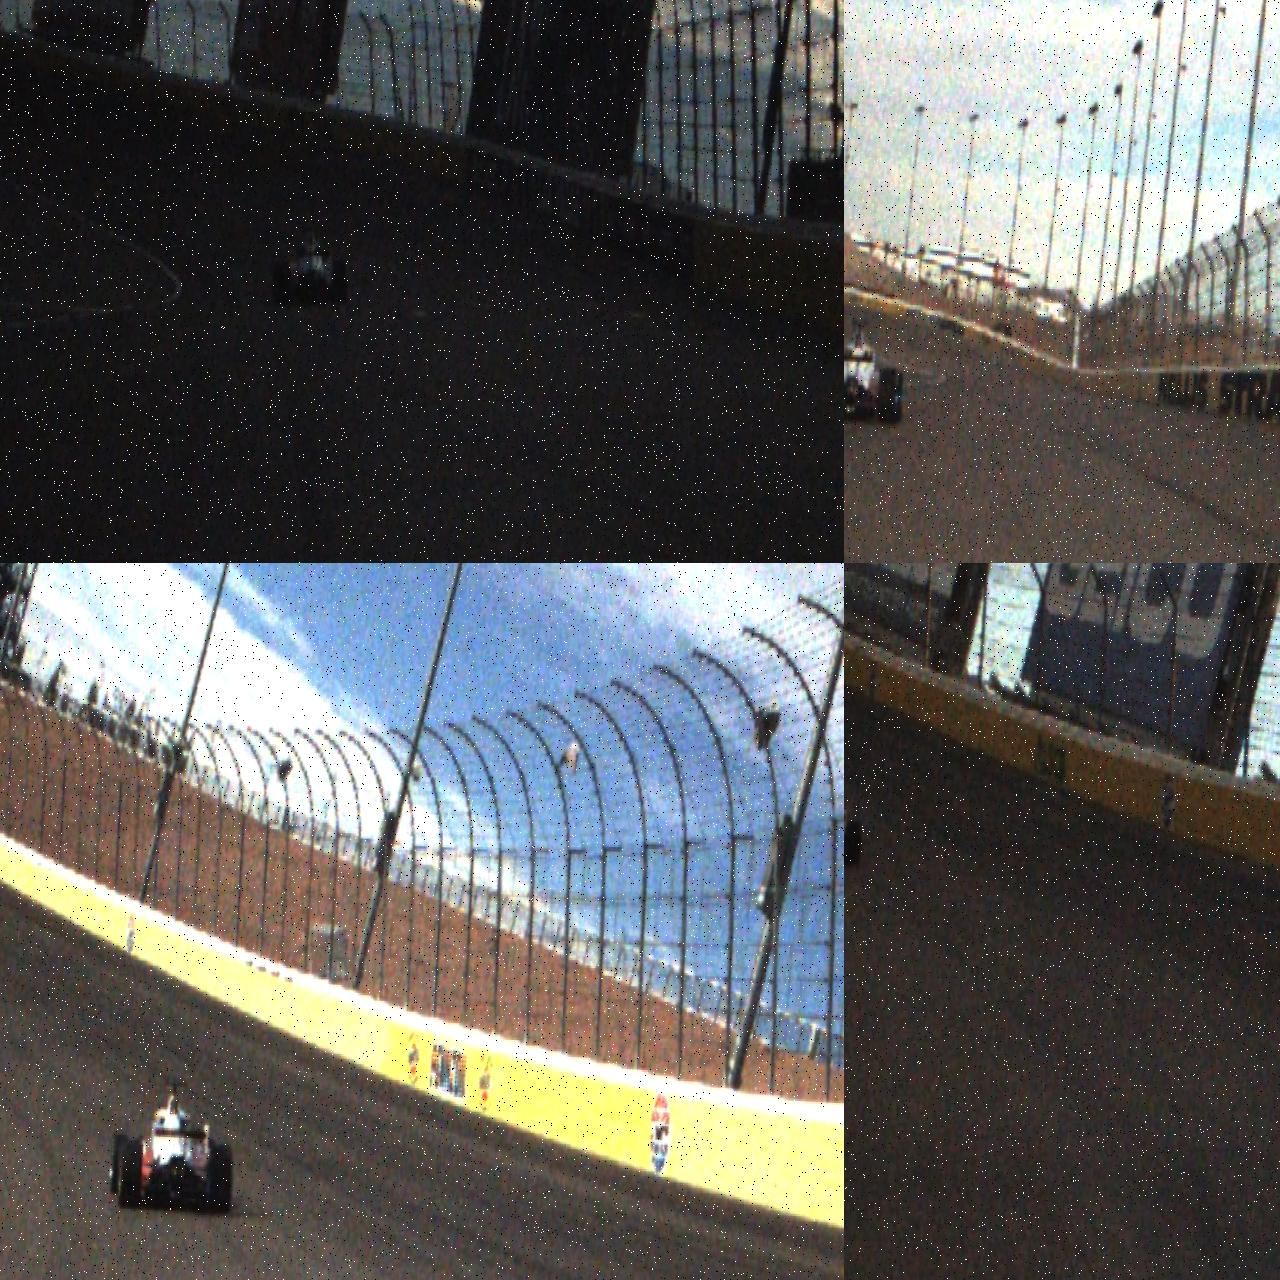AV: (108, 1076, 236, 1214), (272, 222, 351, 310), (844, 316, 907, 425), (844, 775, 864, 867)
Wheel: (207, 1144, 233, 1214), (118, 1138, 142, 1208), (108, 1132, 130, 1194), (877, 368, 899, 424), (330, 256, 350, 306), (272, 258, 291, 306), (844, 819, 861, 866)
